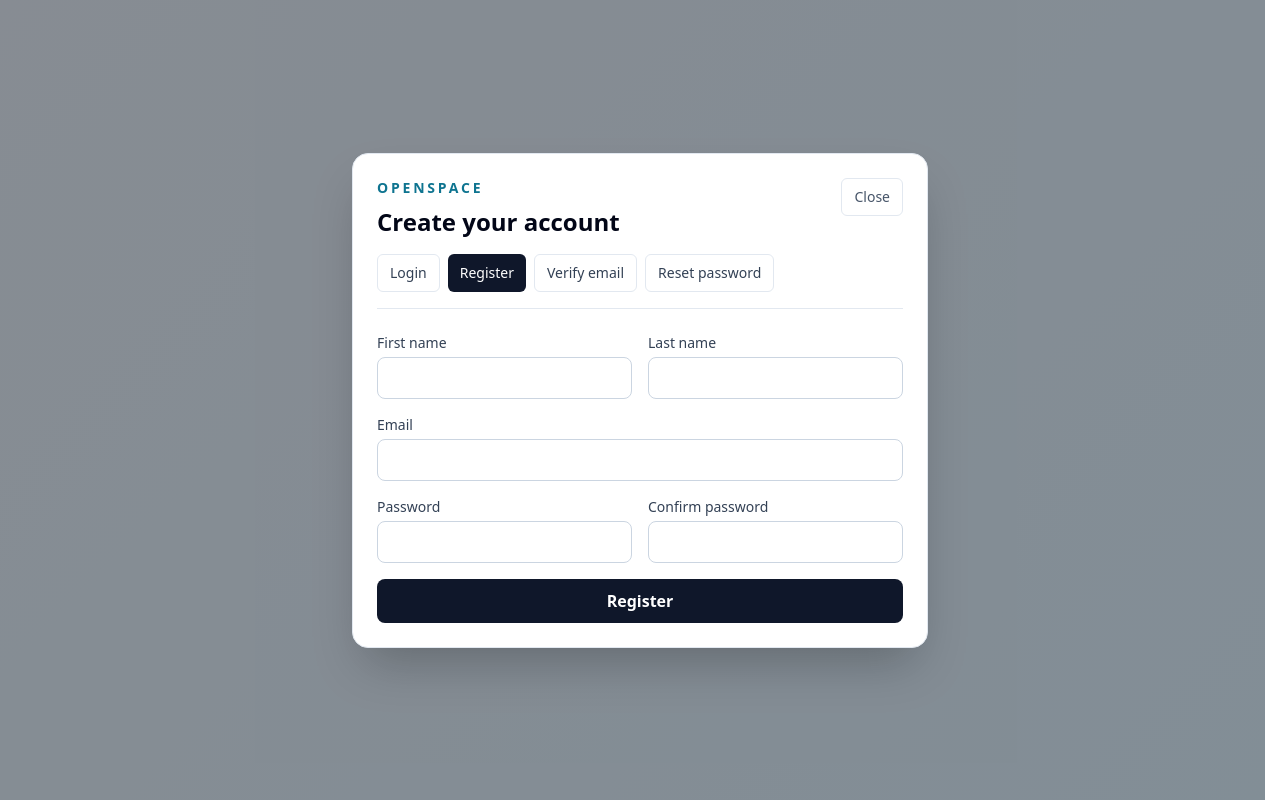
Test: PublicAuthModal › shows a validation error before sending a mismatched registration form
Expected: the form labelled "Confirm password" is shown, [377,332,903,622]
Type "Ada" into the field labelled "First name" at {"x": 504, "y": 378}, box [377,356,632,398]
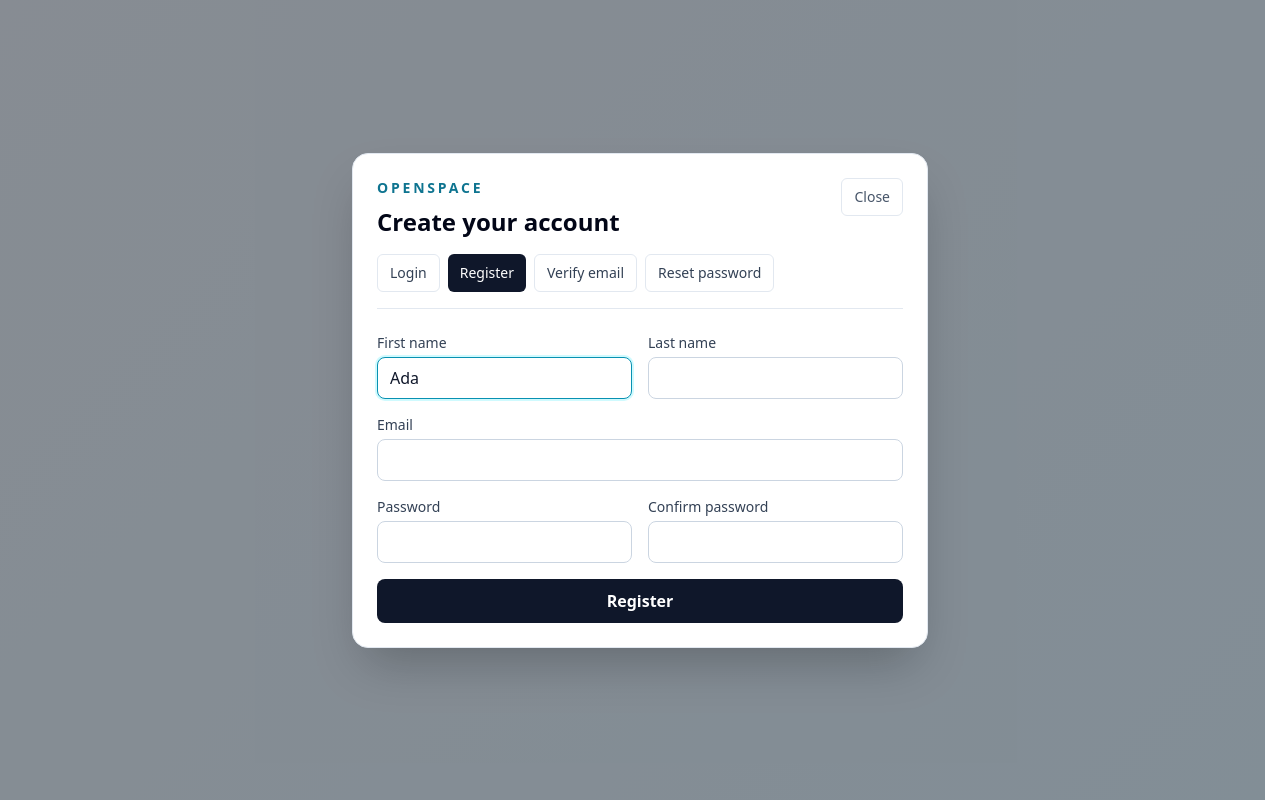
Type "Lovelace" into the field labelled "Last name" at {"x": 776, "y": 378}, box [648,356,903,398]
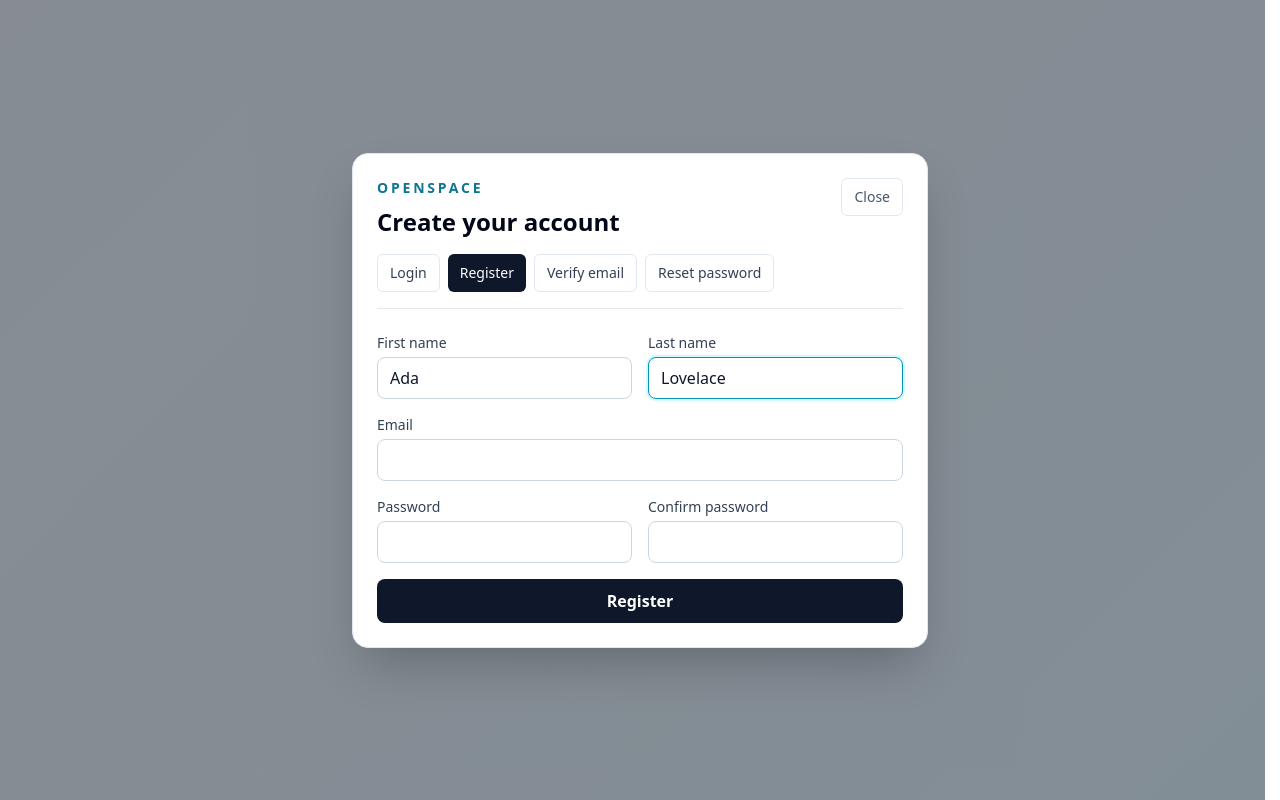
Type "ada@example.com" into the field labelled "Email" at {"x": 640, "y": 460}, box [377,438,903,480]
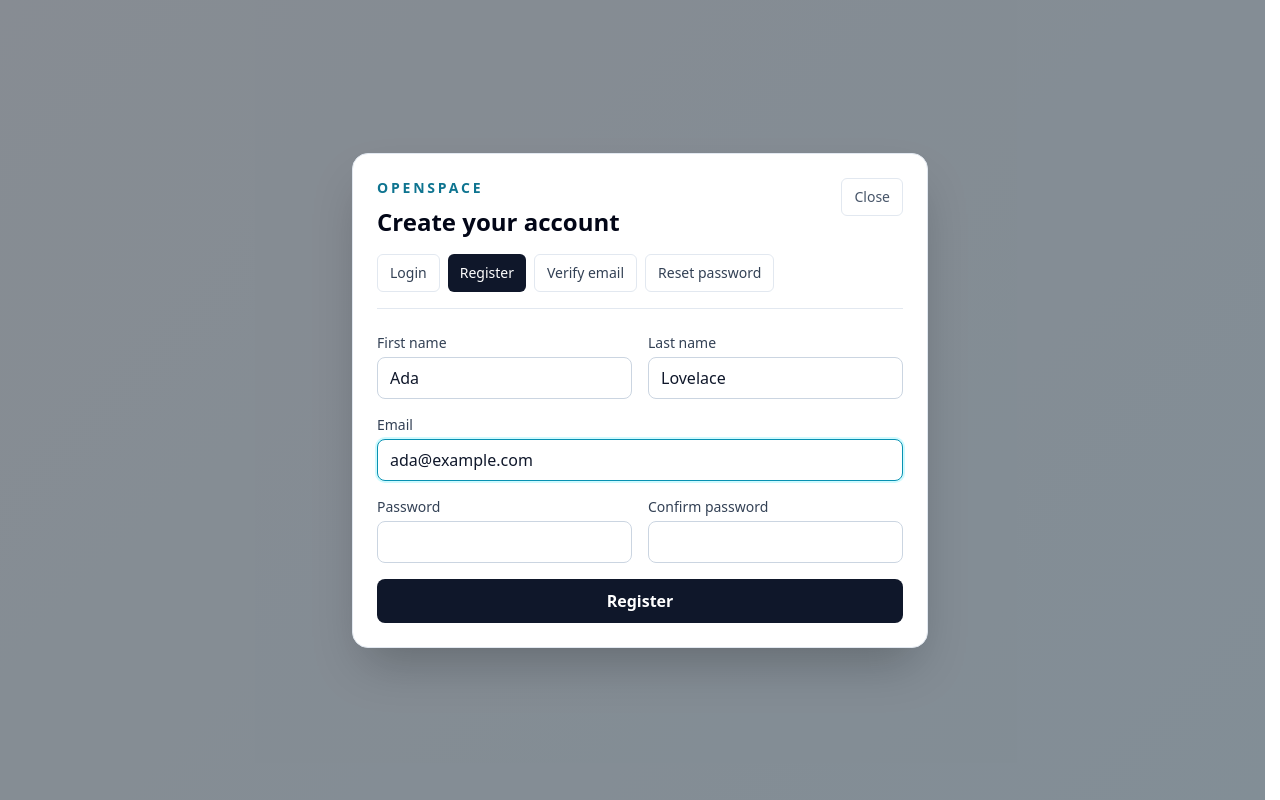
Type "password123" into the password field labelled "Password" at {"x": 504, "y": 542}, box [377,520,632,562]
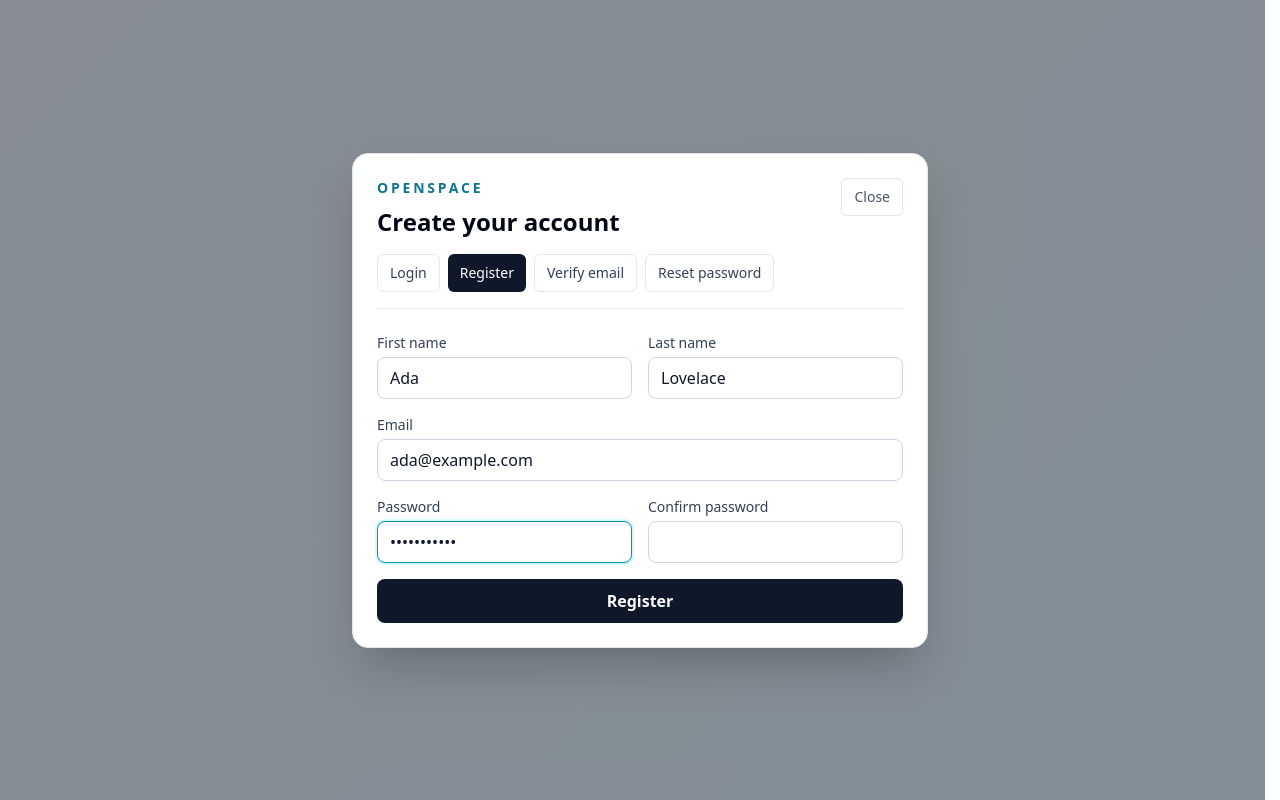
Type "different123" into the password field labelled "Confirm password" at {"x": 776, "y": 542}, box [648,520,903,562]
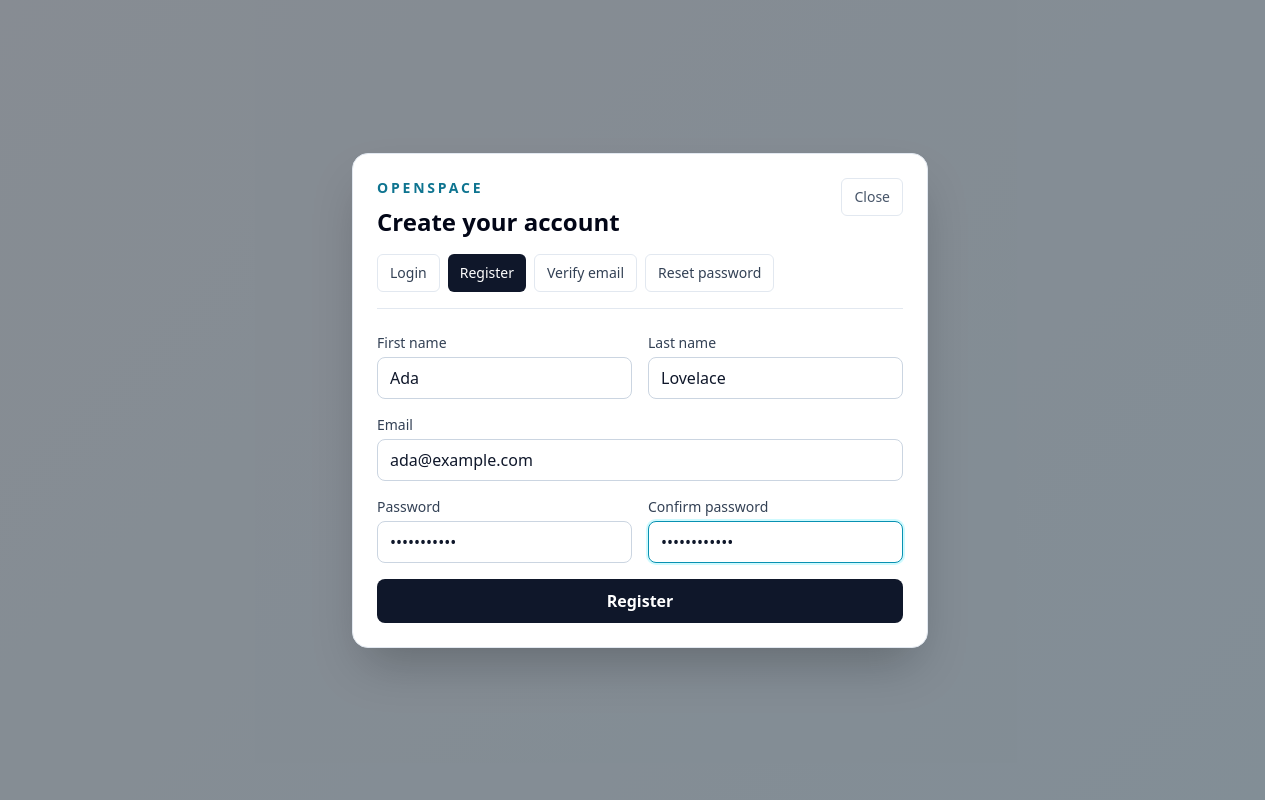
Click the button "Register" below "Confirm password" at {"x": 640, "y": 600}, box [377,578,903,622]
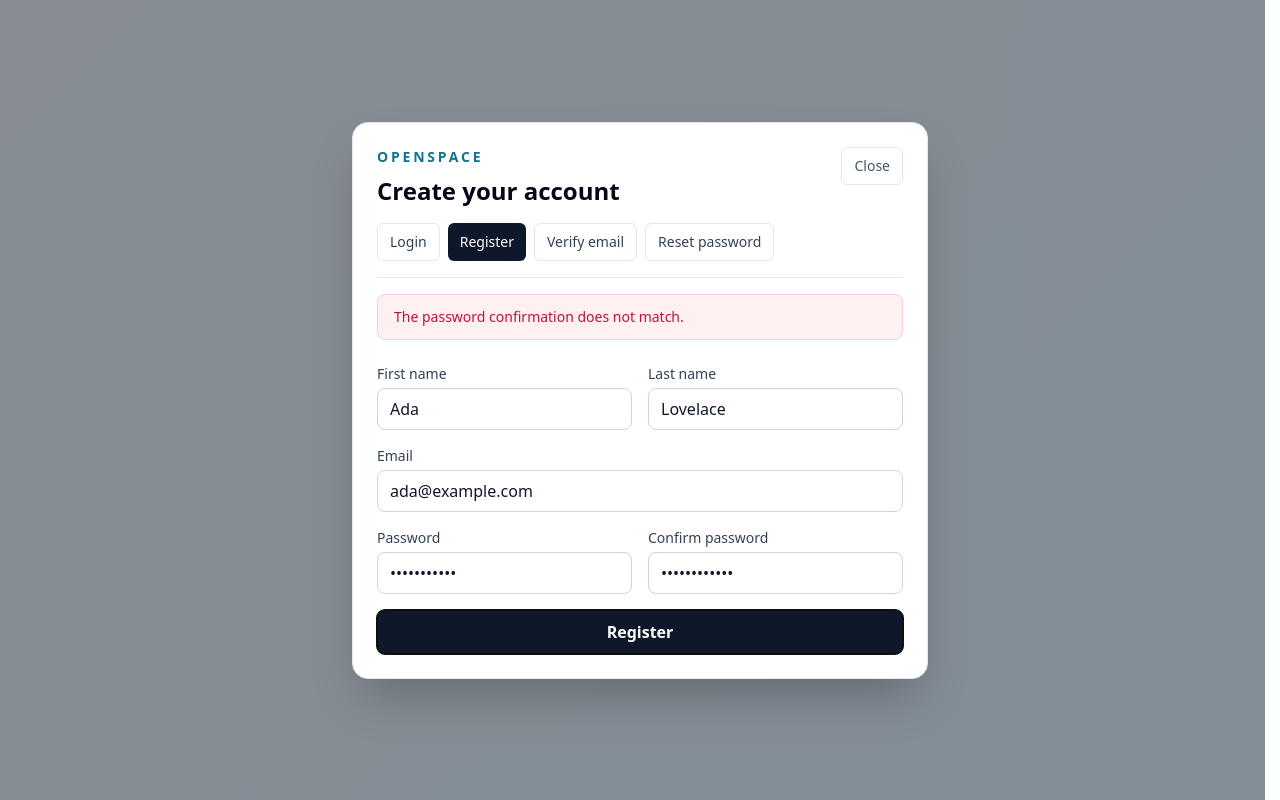
Expected: the text "The password confirmation does not match." is shown, [377,294,903,340]
